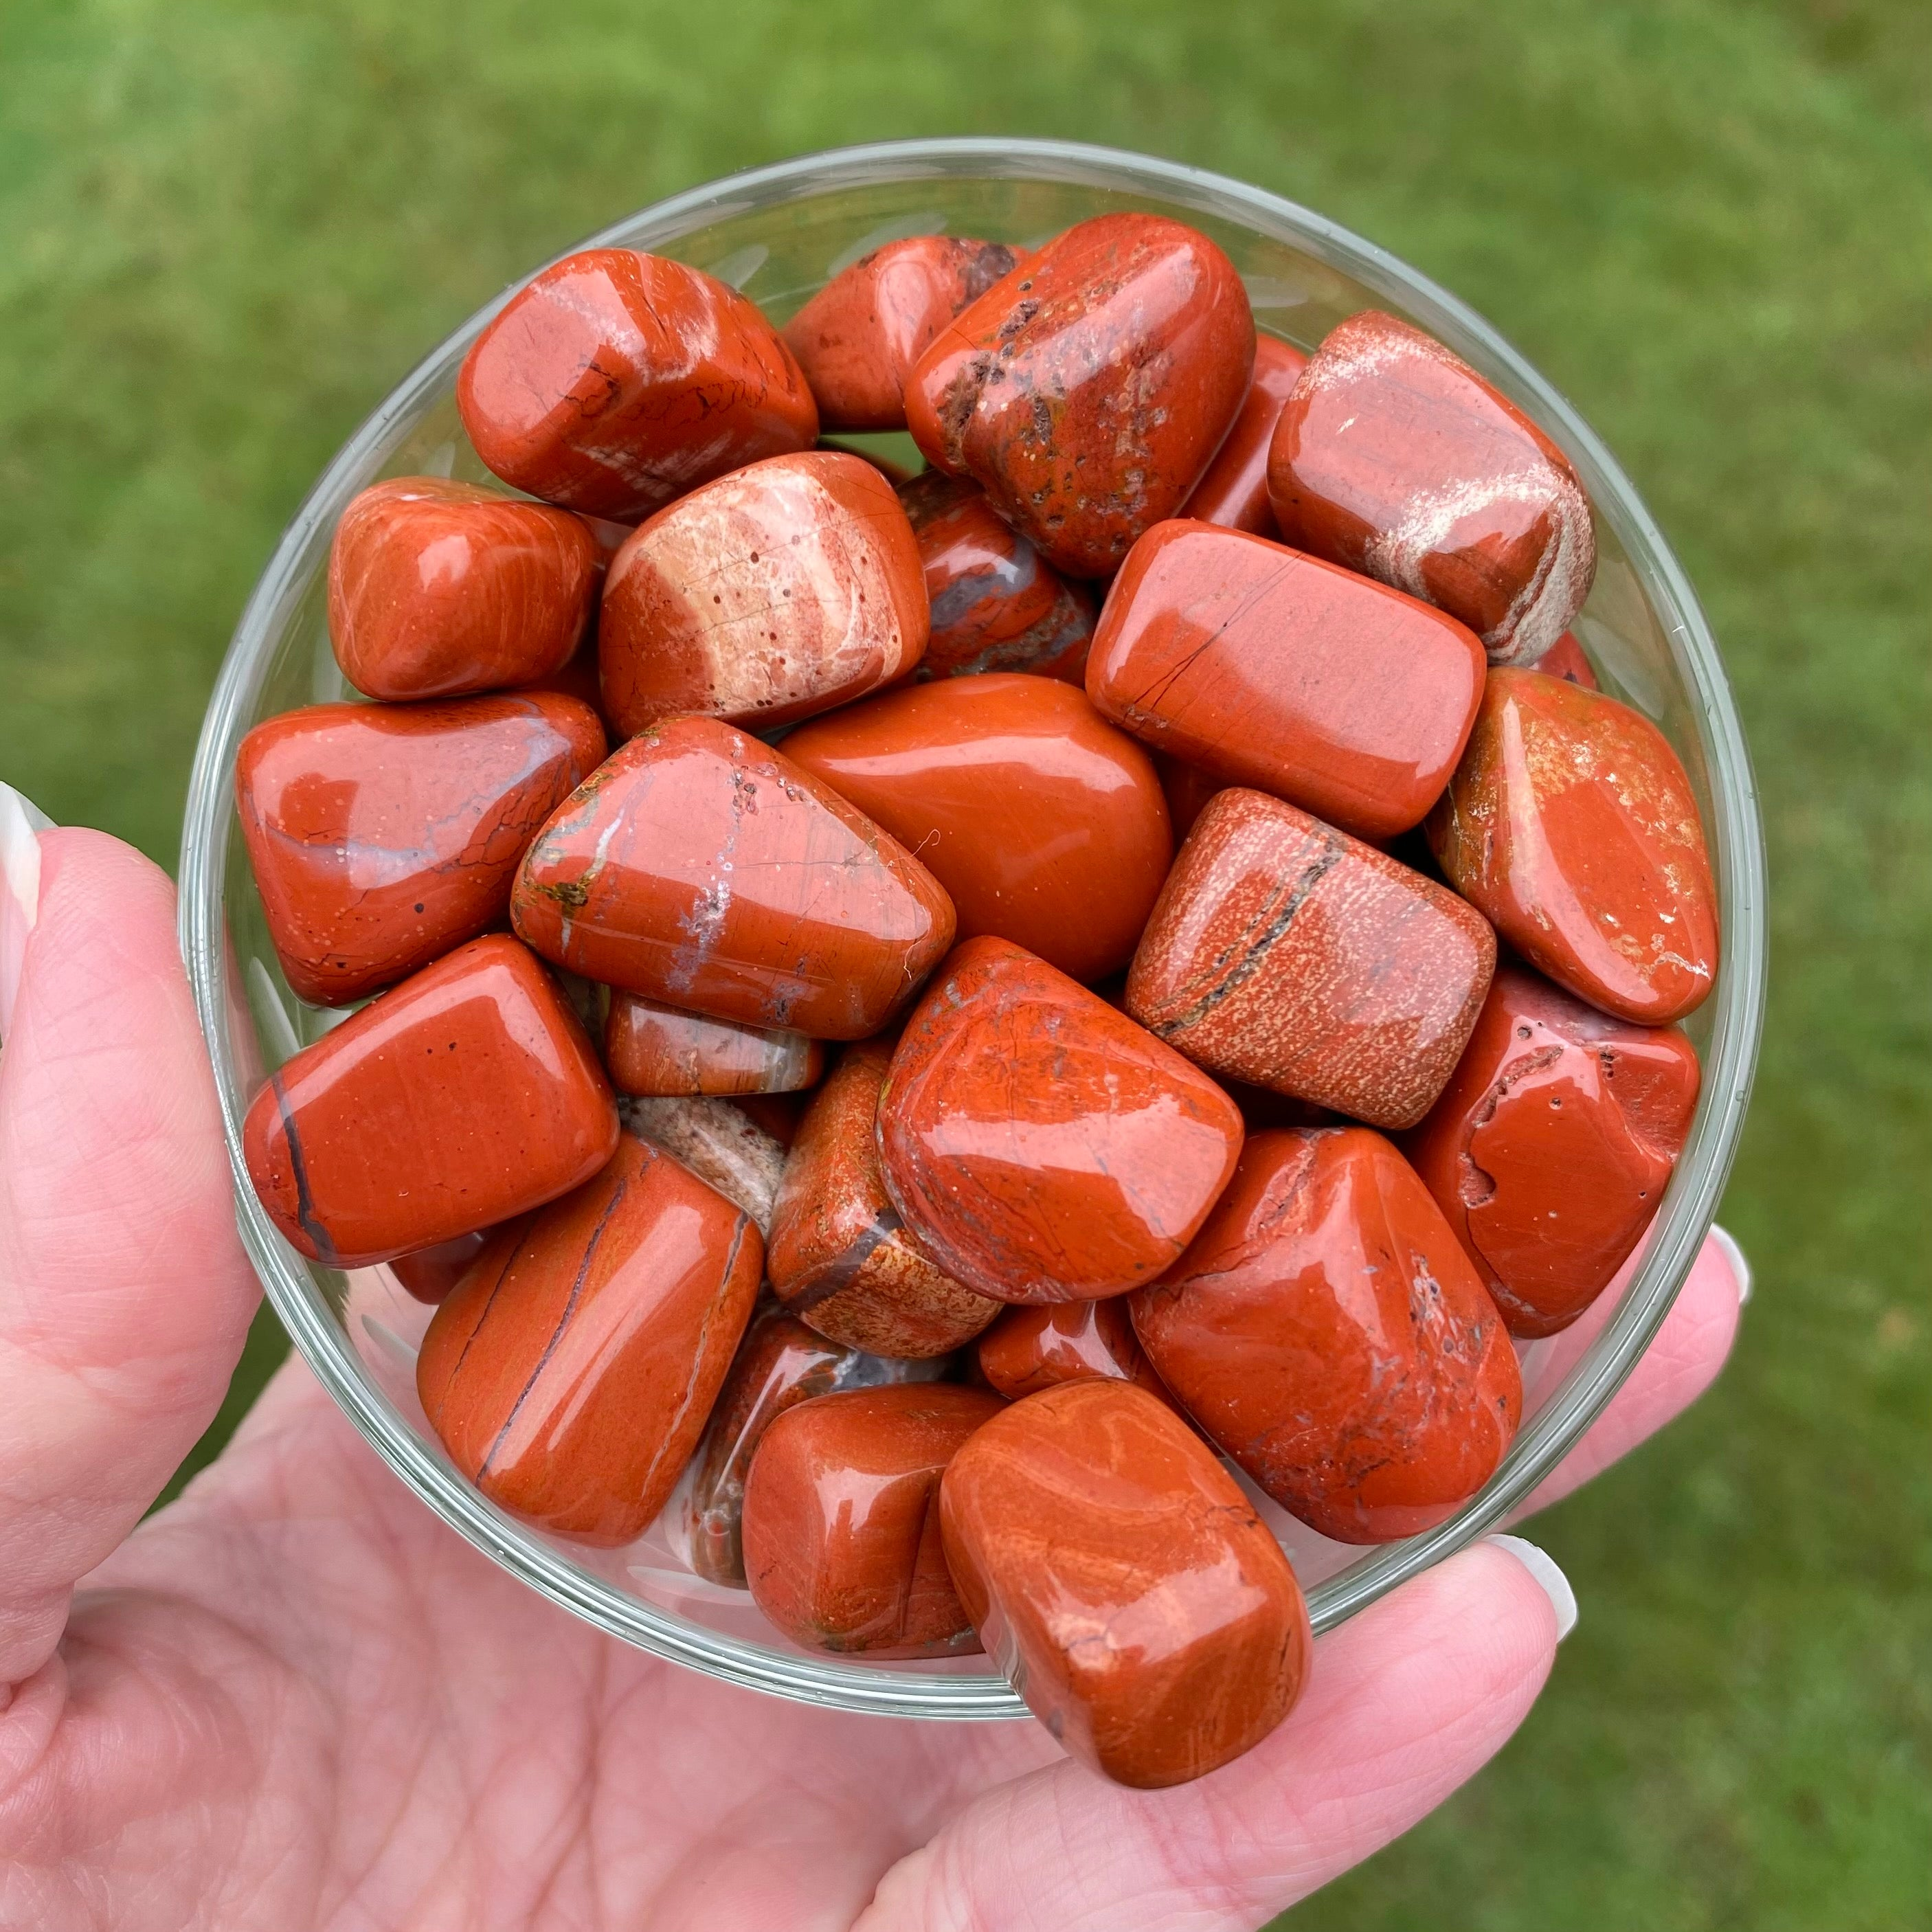Red_Jasper: (366, 488, 1466, 1525)
